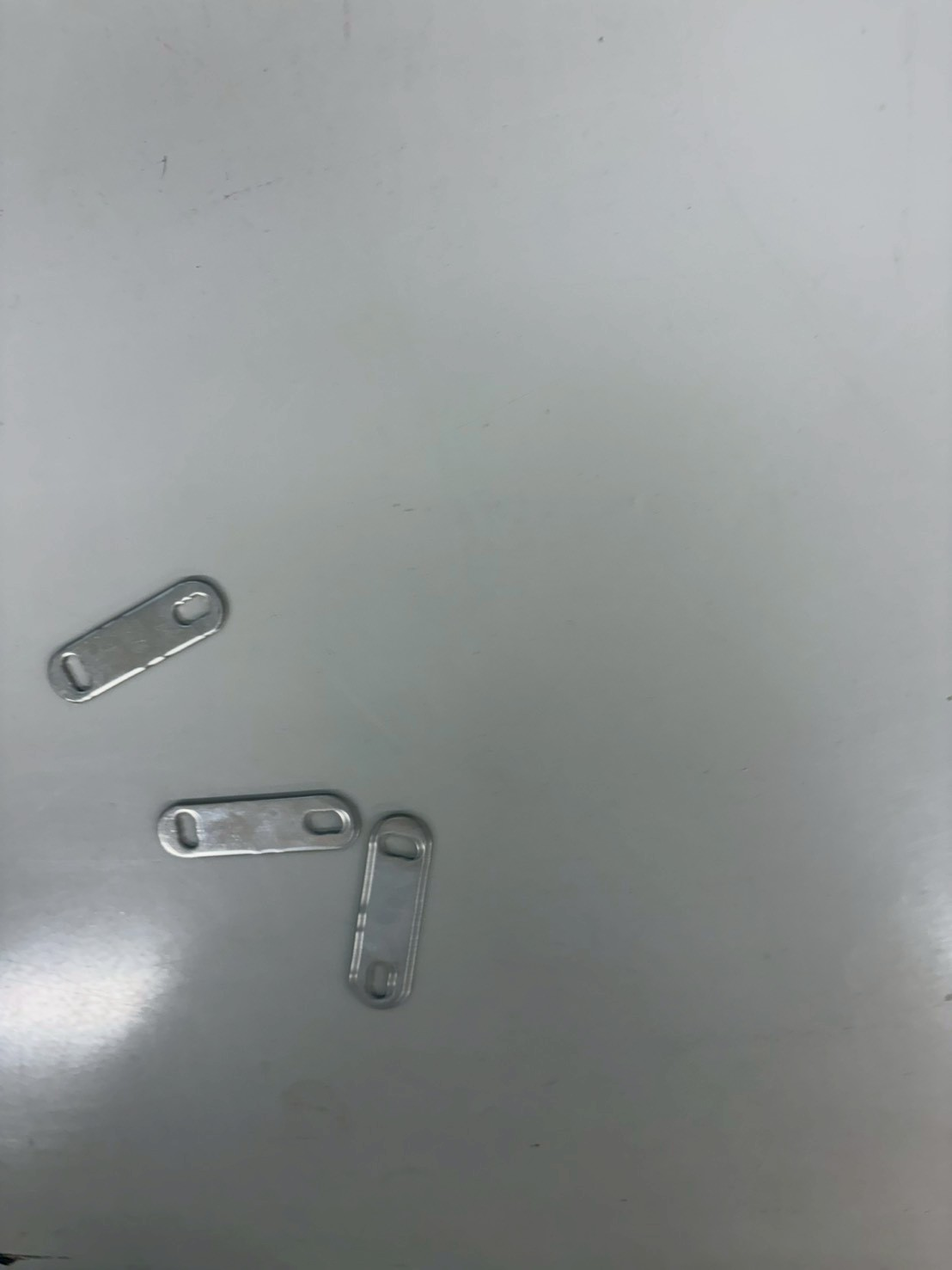Fe: (372, 801, 446, 1006), (219, 558, 286, 771), (356, 786, 419, 994)
